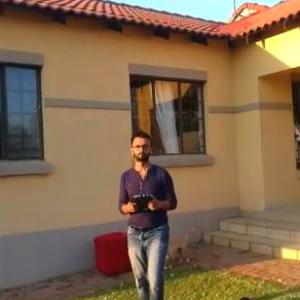follow: (116, 126, 188, 299)
null: (163, 225, 198, 270)
